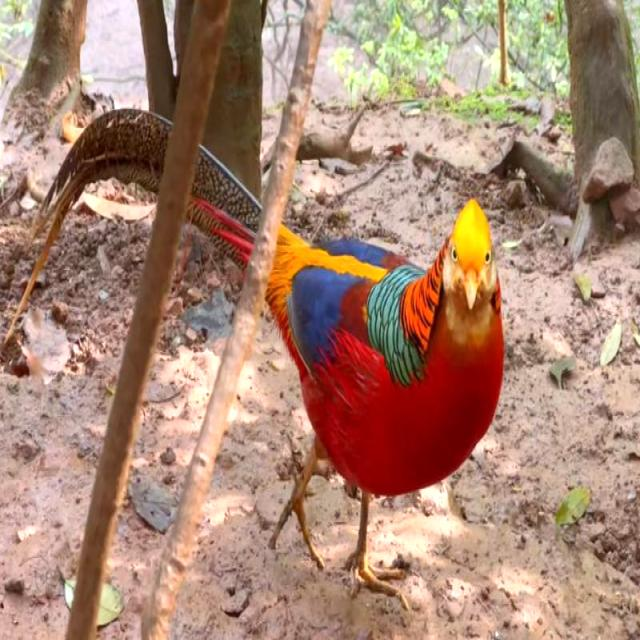Chrysolophus pictus feather: (18, 109, 260, 319)
